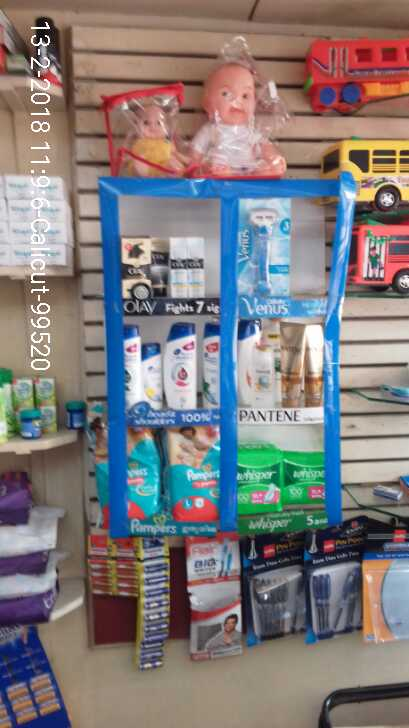venus: (240, 194, 293, 291)
